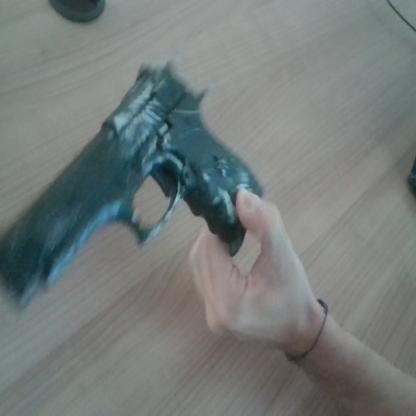handgun: (0, 52, 309, 372)
